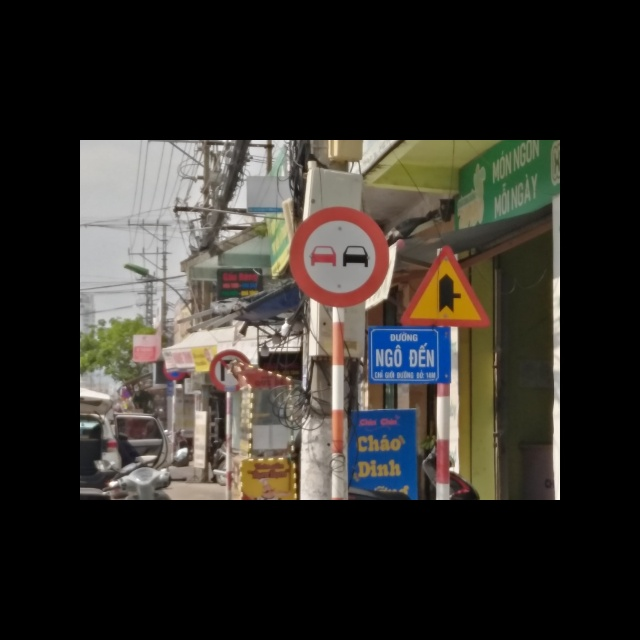Cấm vượt: (286, 206, 389, 309)
Giao nhau với đường không ưu tiên: (399, 243, 491, 329)
